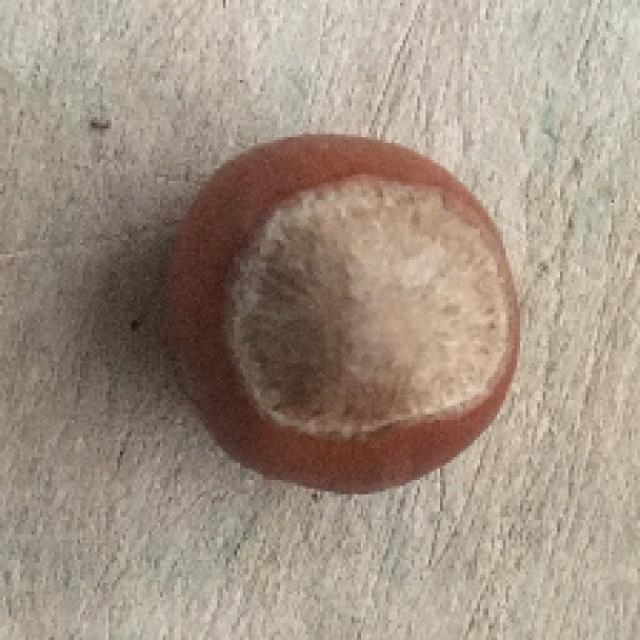qualityHazelnut: (152, 123, 521, 510)
